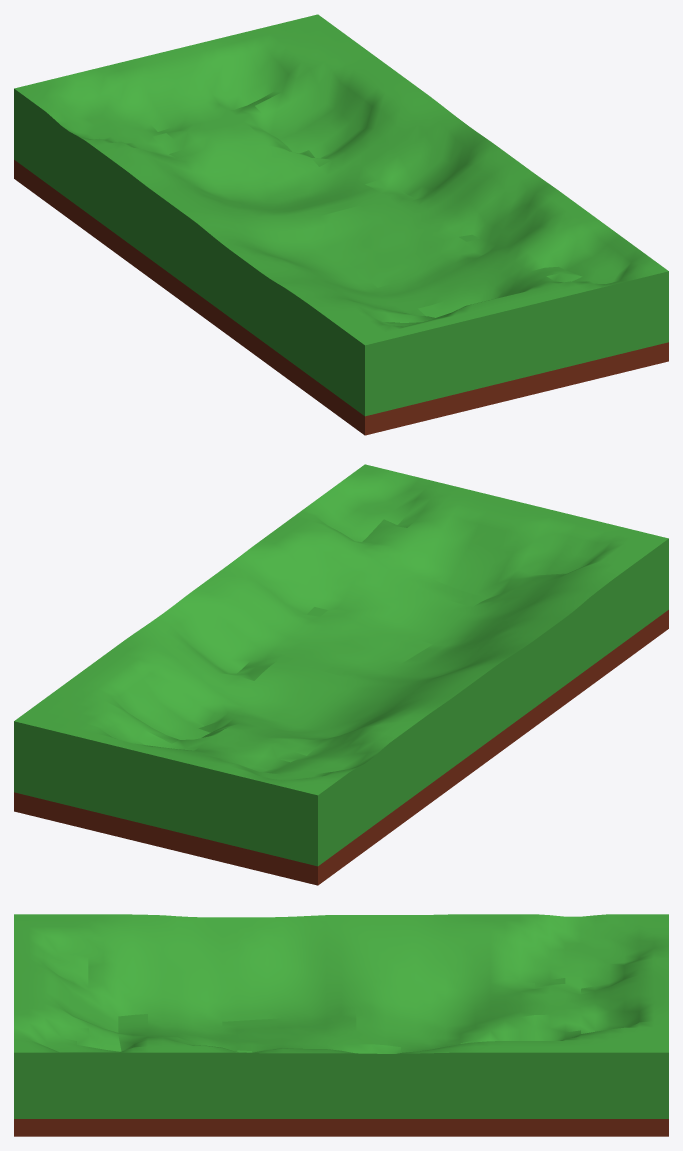
Rendered from GrassPlane4.fbx.
3 views of the same model, one above another, from view 1: azimuth 30°, elevation 25°; view 2: azimuth 150°, elevation 25°; view 3: azimuth 270°, elevation 25° (orthographic). The views are drawn at different scales.
Visible parts, largest first — view 1: Cube; view 2: Cube; view 3: Cube.
Part boxes in pixels (x1=…): Cube: x1=14, y1=14, x2=668, y2=435; Cube: x1=14, y1=464, x2=668, y2=885; Cube: x1=14, y1=914, x2=668, y2=1136.
Bounding box in the file's own units: 200 × 61.95 × 400.
